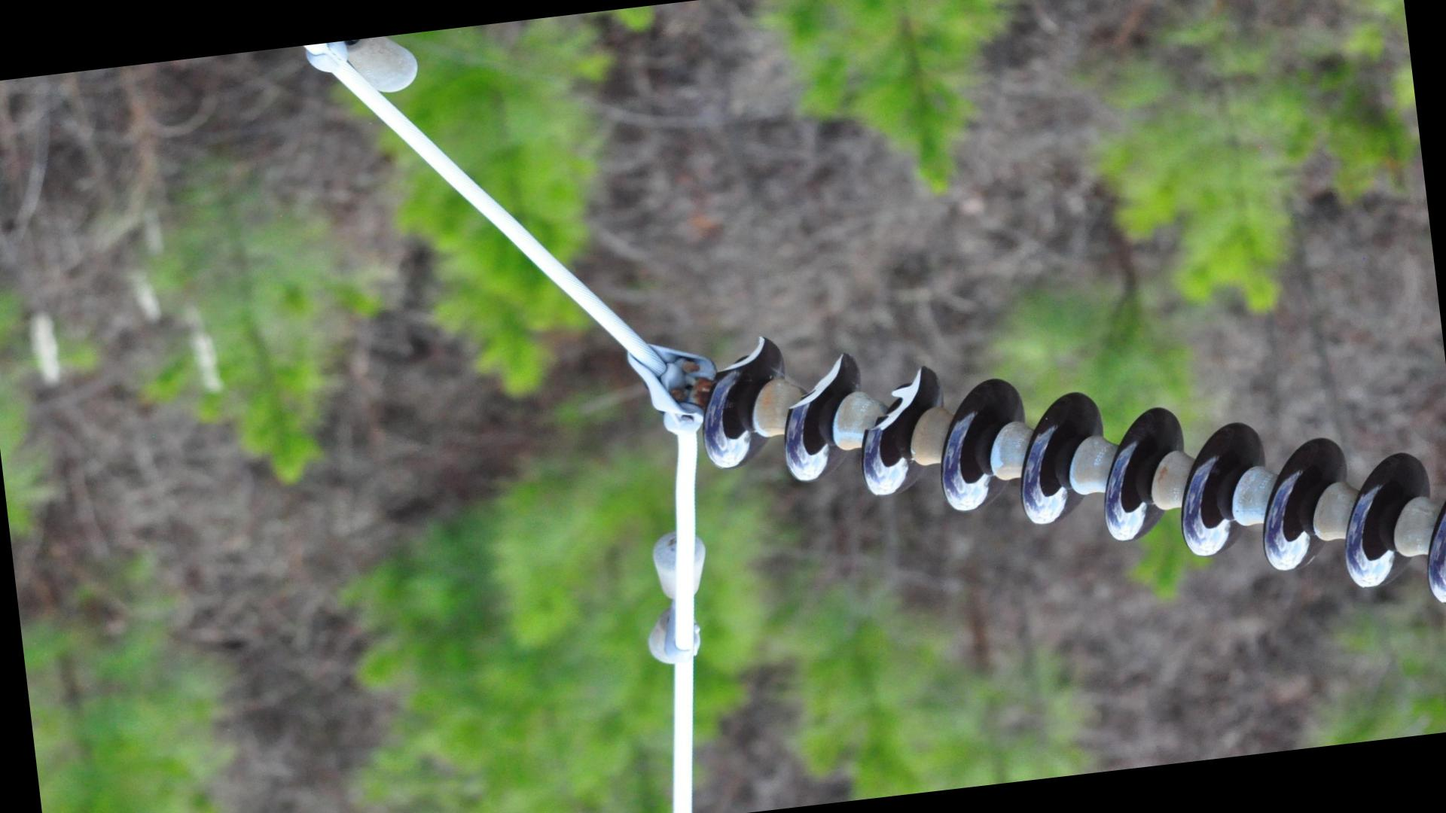damper: (630, 525, 723, 672)
